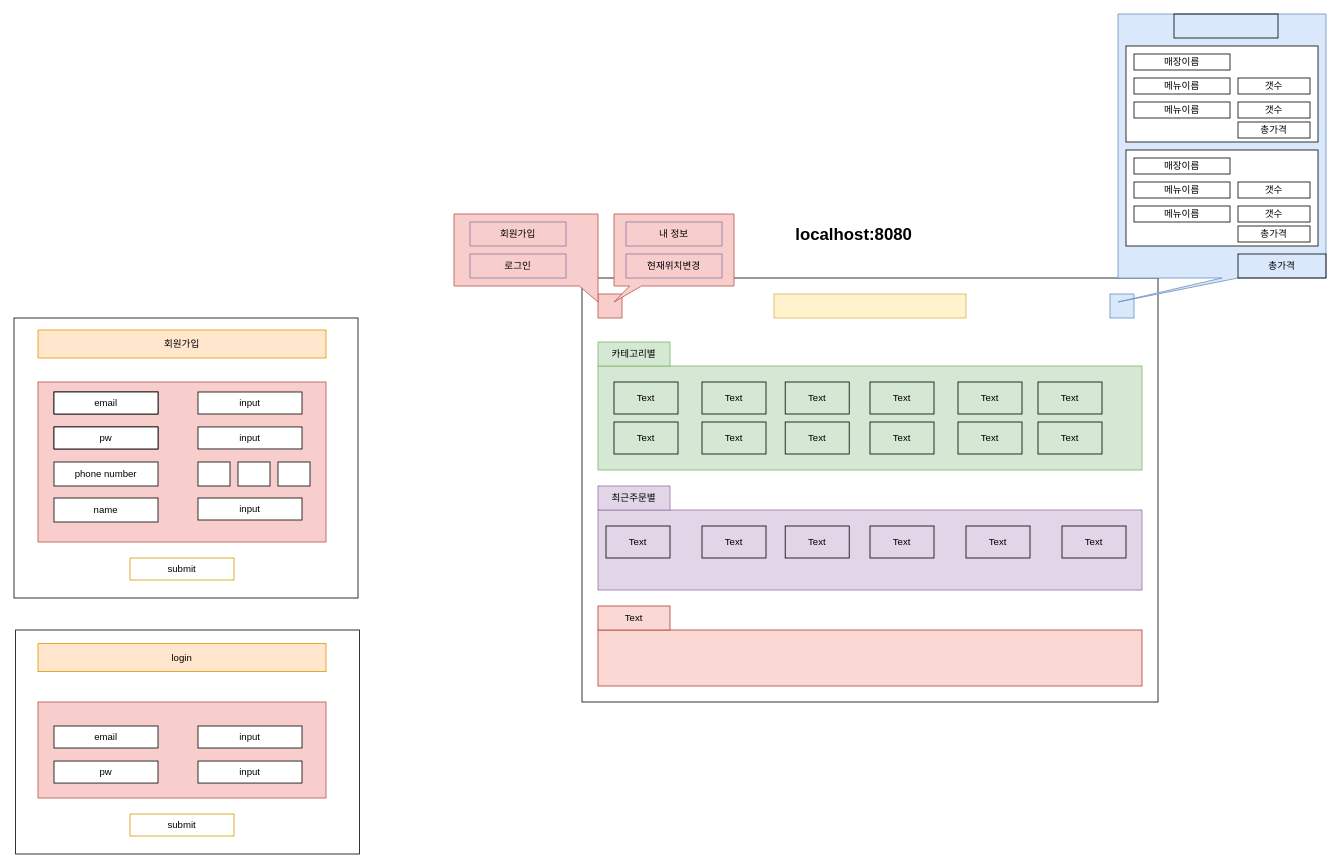
This 1340x868 diagram has some shape labels left out. The centre of each missing label's shape, as x and y in pixels:
cart: pixel 1225 25
market title: pixel 869 305
